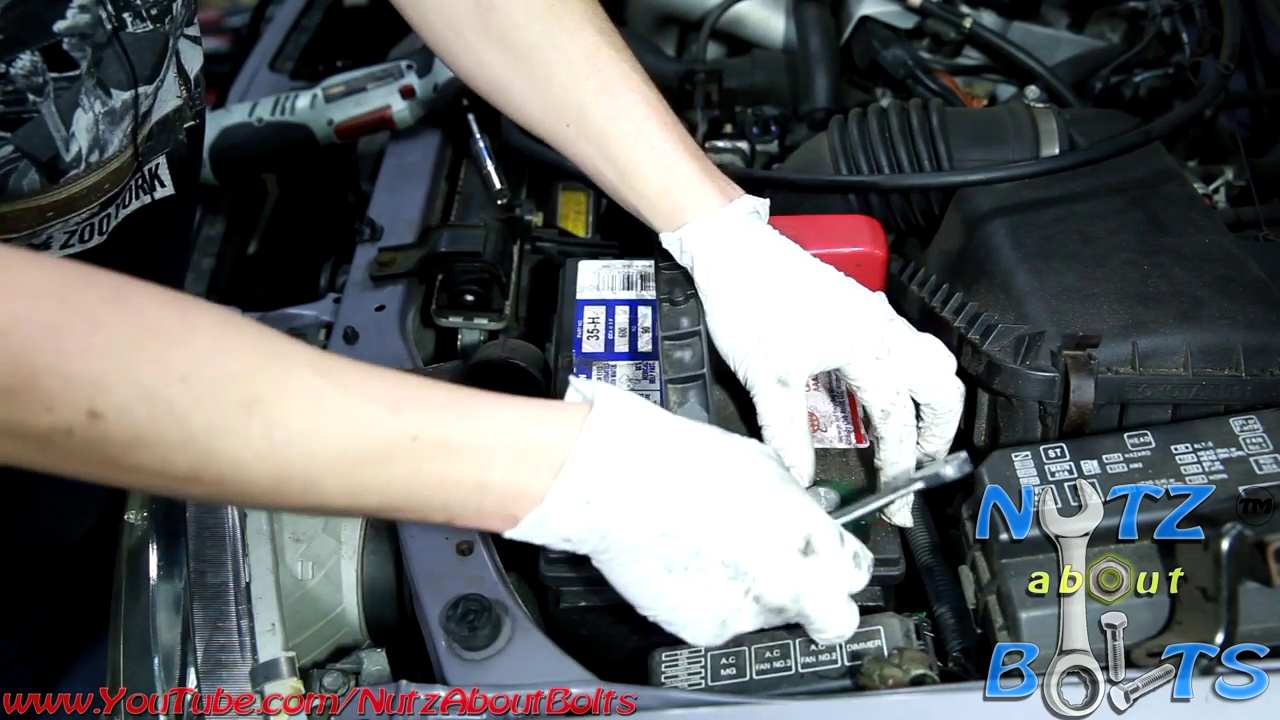battery: (562, 214, 951, 573)
neg_touched: (714, 403, 938, 638)
pos_touched: (707, 181, 947, 395)
